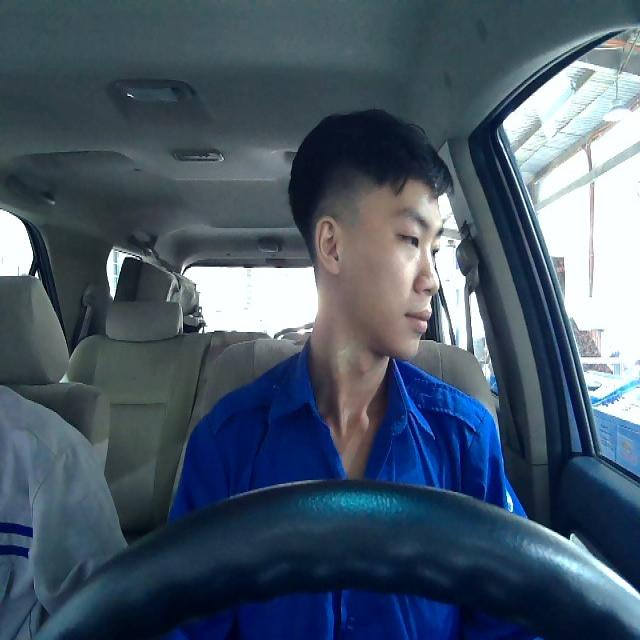seeing_right: (307, 169, 441, 364)
